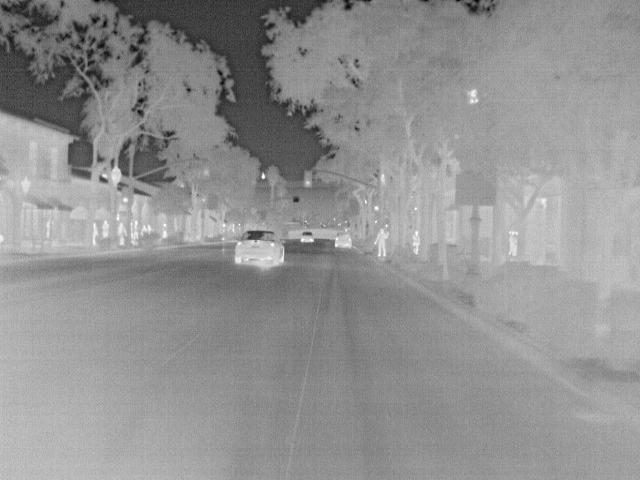car: (232, 229, 284, 269), (333, 228, 354, 250), (299, 228, 316, 244)
person: (372, 227, 389, 257), (410, 228, 423, 254), (98, 219, 111, 240), (90, 220, 99, 248)
